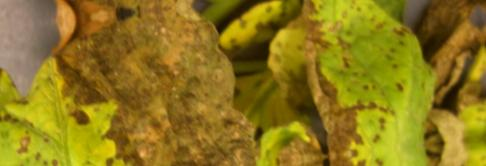Tomato Septoria leaf spot: (0, 0, 254, 166), (268, 0, 440, 161)
